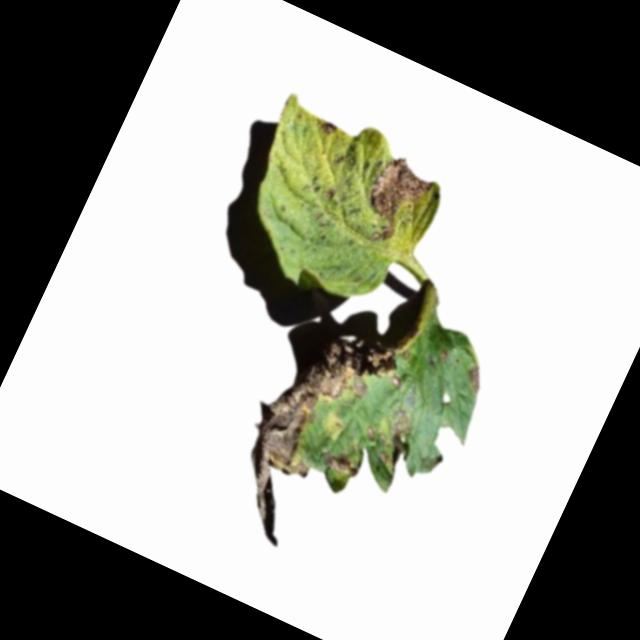Early_blight: (217, 320, 401, 564), (351, 150, 437, 256), (358, 400, 427, 476), (457, 359, 490, 397), (313, 115, 339, 139)
